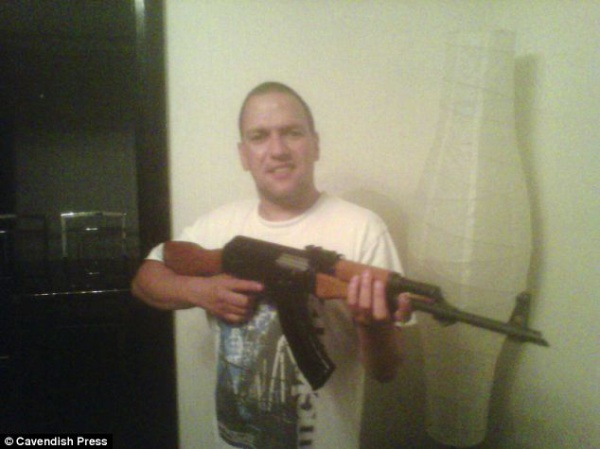ak47: (165, 235, 548, 391)
